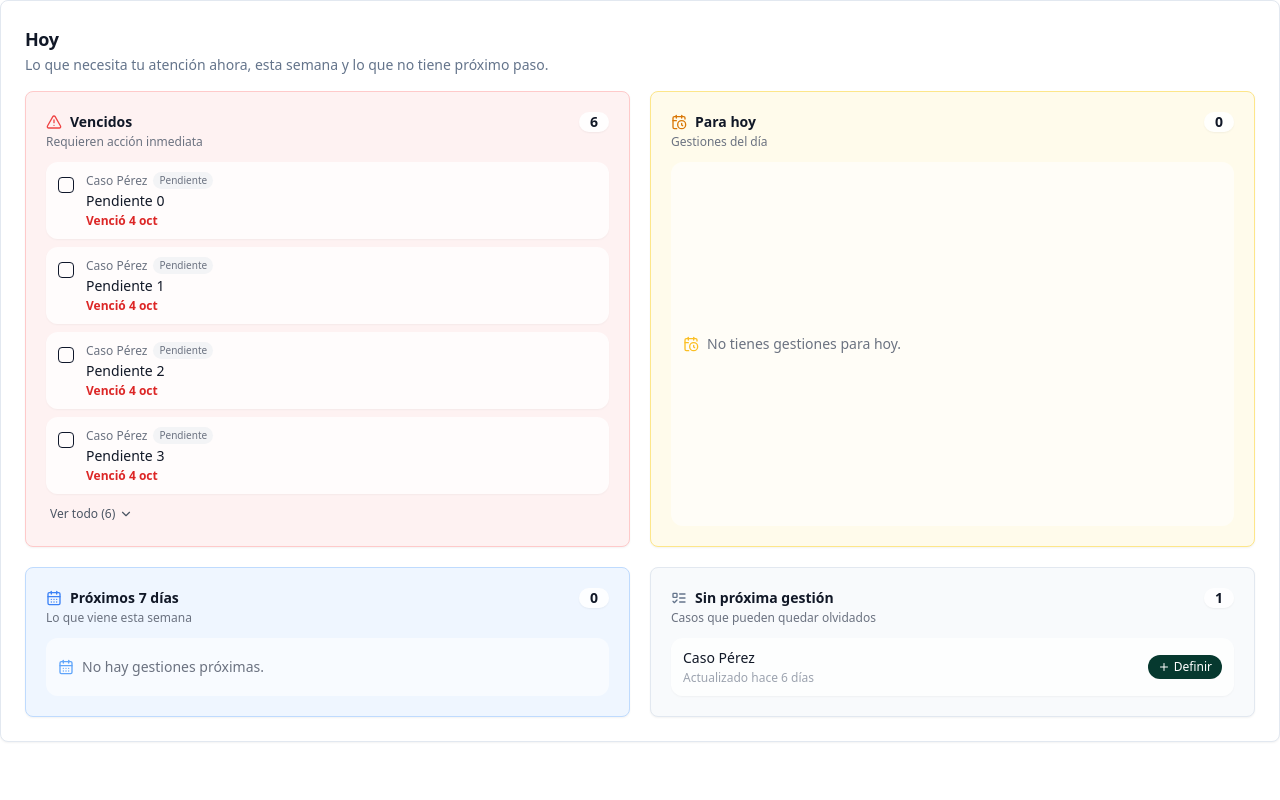
Test: FASE 5.2 — componente ActionCenter › 5.2B: más de 4 items muestra Ver todo y expande
Check: the text "Pendiente 5" is not shown
Click the button "Ver todo (6)". click: click(92, 514)
box: [46, 502, 137, 526]
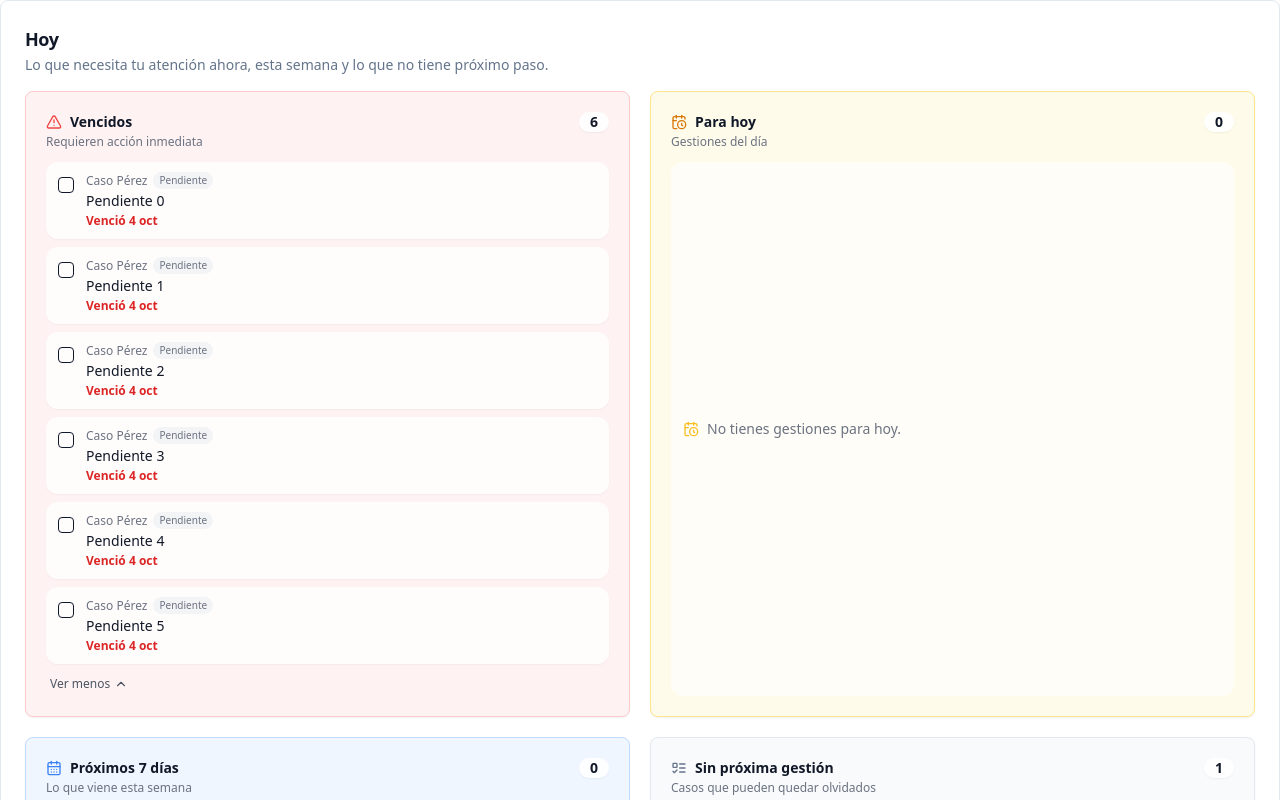
Check: the text "Pendiente 5" is shown, box [86, 616, 164, 635]
Click the button "Ver menos". click: click(89, 684)
box: [46, 672, 132, 696]
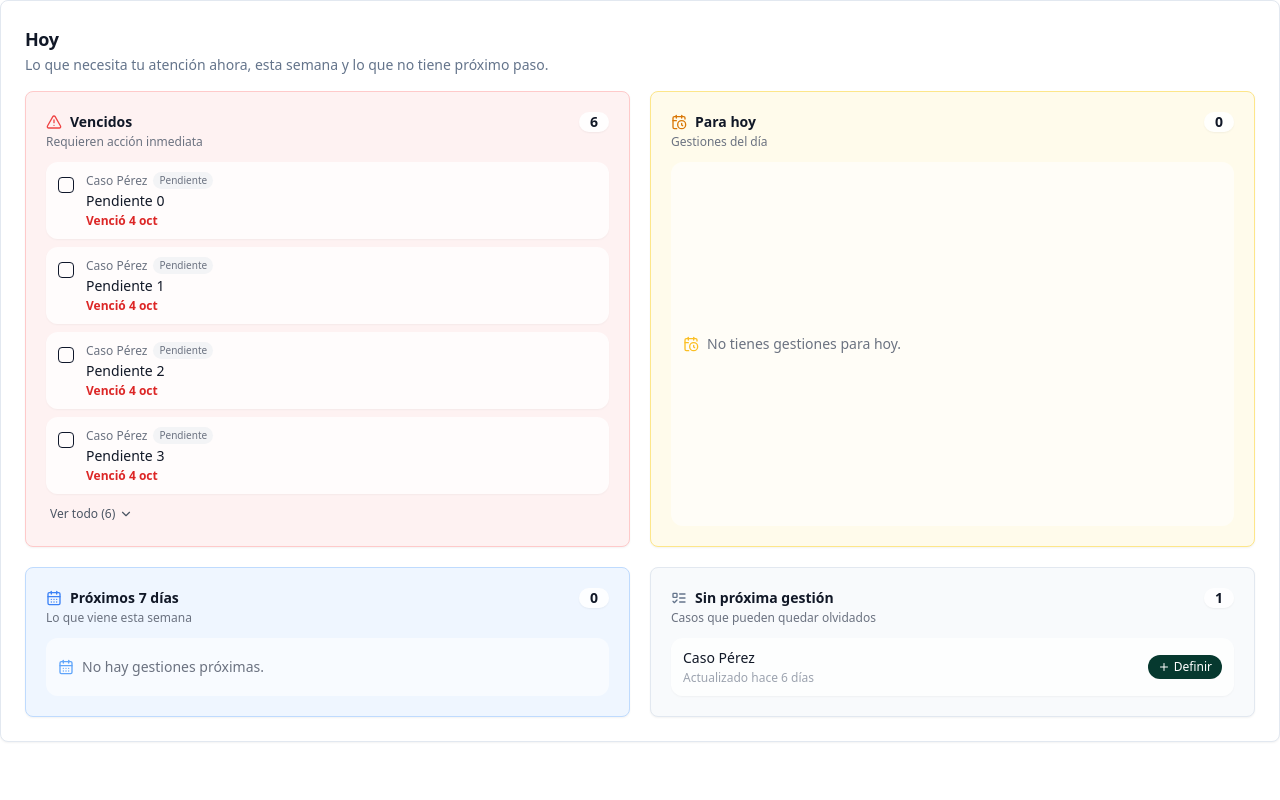
Check: the button "Pendiente 5" is gone
